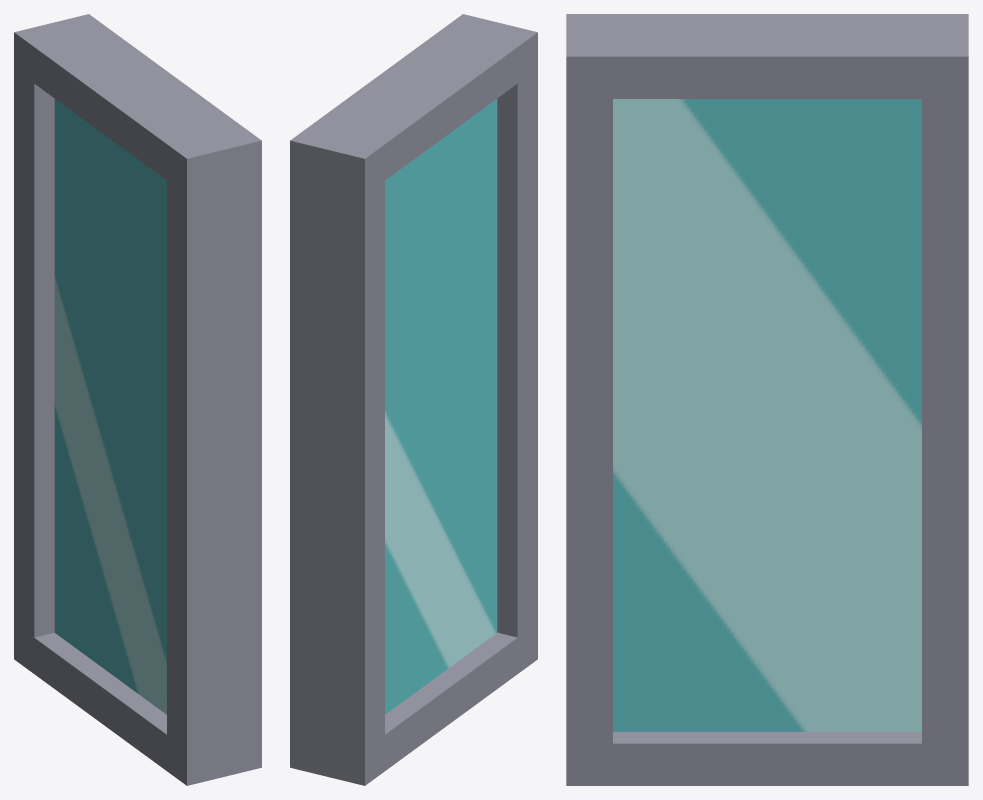
Rendered from Window.fbx.
The picture shows the model from 3 angles, left to right: view 1: azimuth 30°, elevation 25°; view 2: azimuth 150°, elevation 25°; view 3: azimuth 270°, elevation 25°; orthographic projection. The views are drawn at different scales.
Parts seen in each view (by area): view 1: Window; view 2: Window; view 3: Window.
Part boxes in pixels (bbox=[...]): Window: bbox=[14, 14, 261, 785]; Window: bbox=[290, 14, 537, 785]; Window: bbox=[566, 14, 968, 785].
Size of the model in its own units: 50 by 400 by 200.
2 materials, 2 textured.
